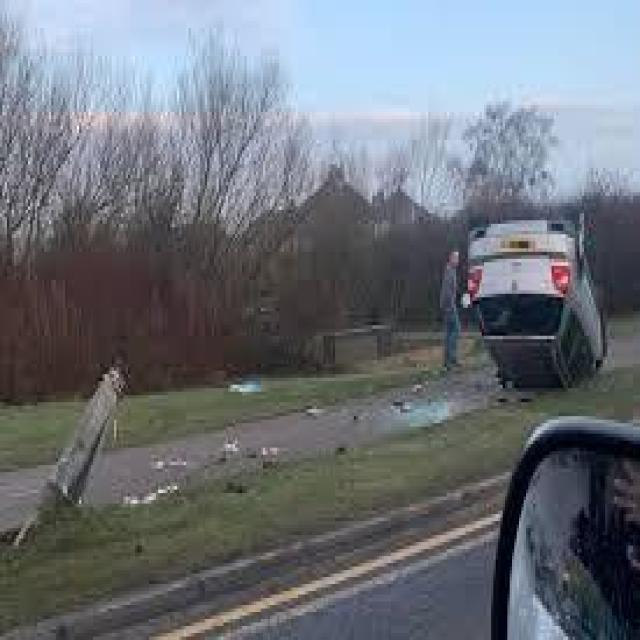severe: (462, 215, 613, 394)
